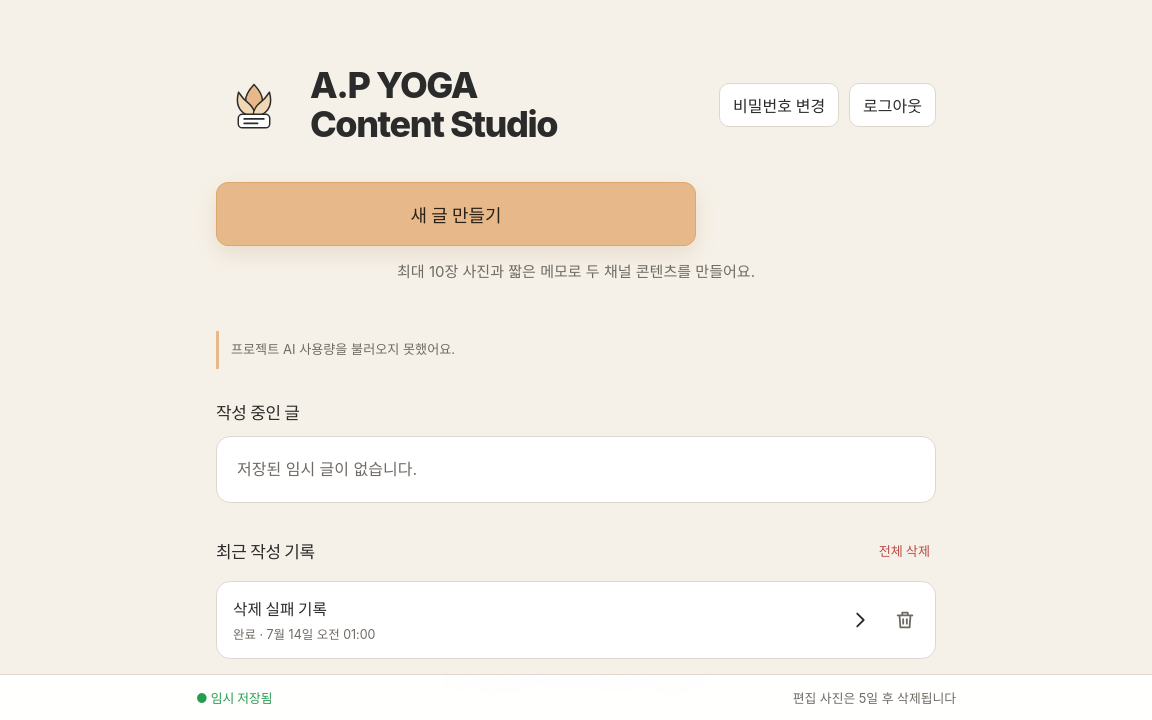
it: history deletion › keeps the dialog and history visible when deletion fails
Expected: the text "삭제 실패 기록" is shown, [233,600,327,618]
Click the button named "삭제 실패 기록 삭제" at (905, 620), box [883,598,927,642]
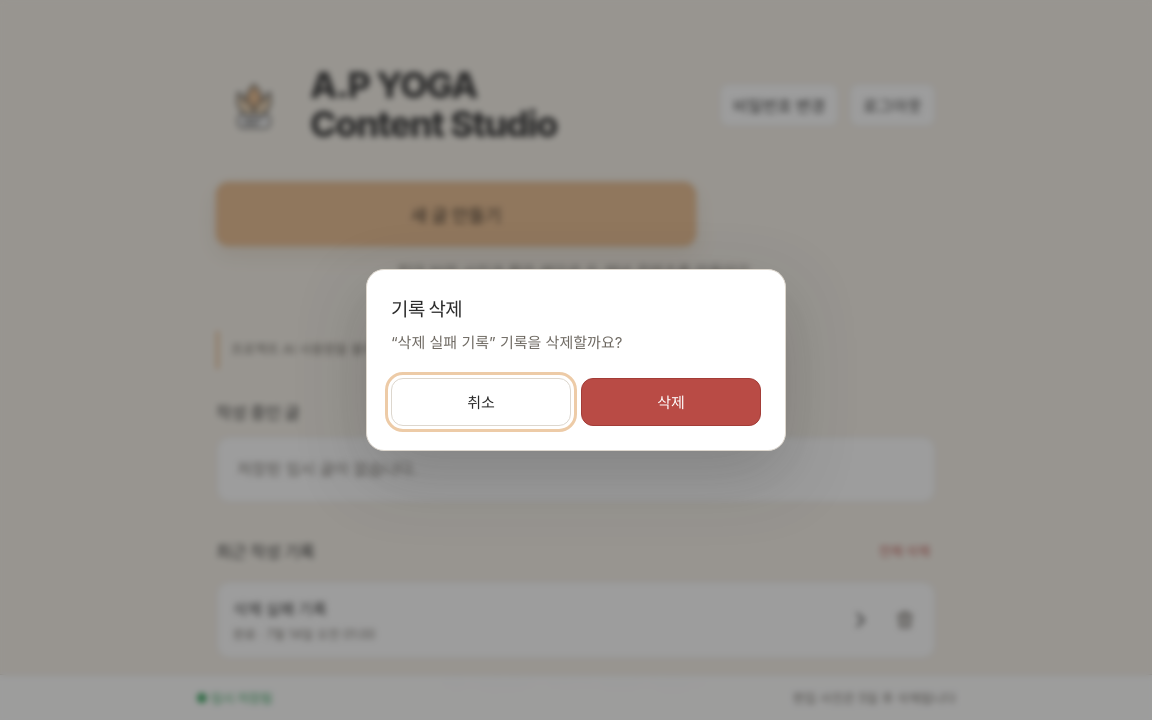
Click the button "삭제" at (671, 402), box [581,378,761,426]
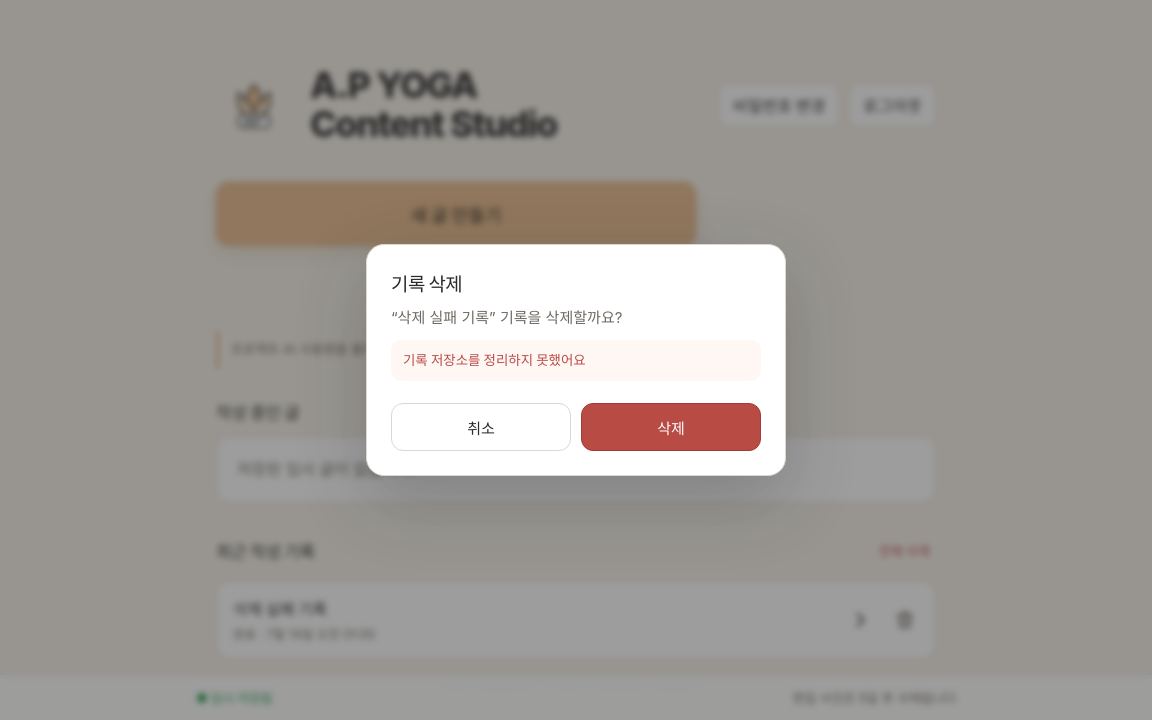
Expected: the text "삭제 실패 기록" is shown, [233,600,327,618]
Result: the dialog is shown at [366,244,786,476]
Result: the message reads "기록 저장소를 정리하지 못했어요" at [403,352,586,368]
